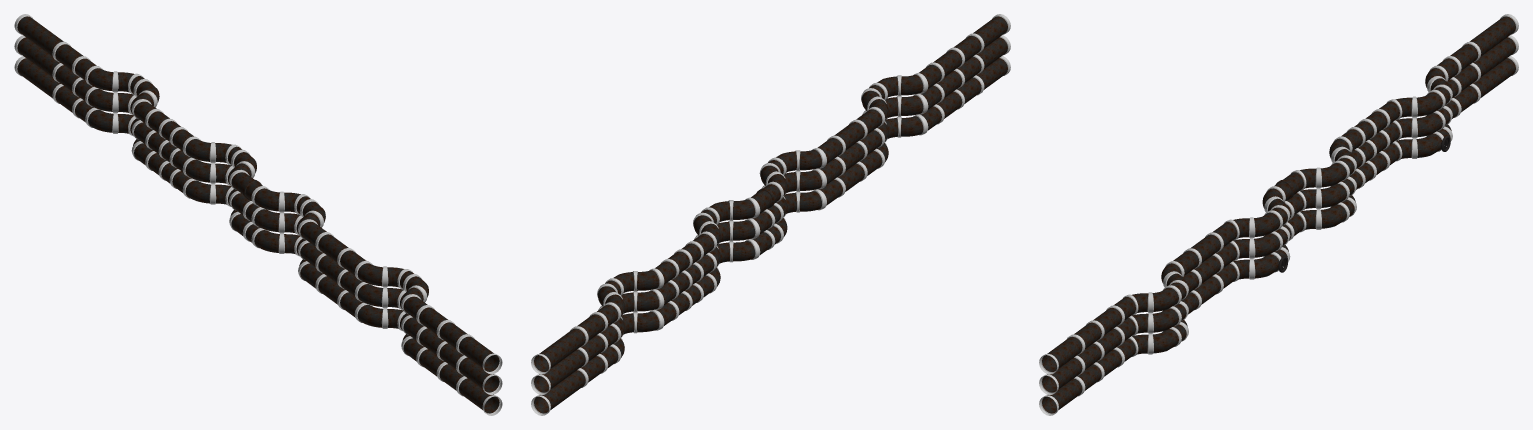
File: Ref_PipeTubes.fbx
The picture shows the model from 3 angles, left to right: view 1: azimuth 30°, elevation 25°; view 2: azimuth 150°, elevation 25°; view 3: azimuth 330°, elevation 25°; orthographic projection.
Parts seen in each view (by area): view 1: PipeTubes; view 2: PipeTubes; view 3: PipeTubes.
Part boxes in pixels (x1,y1,x2,y2): PipeTubes: (14, 14, 502, 415); PipeTubes: (531, 14, 1010, 415); PipeTubes: (1039, 14, 1518, 415).
Bounding box in the file's own units: 76.08 × 97.87 × 1371.
